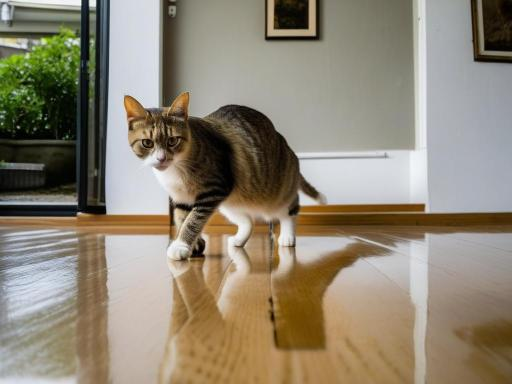cat_standing: (124, 92, 326, 260)
